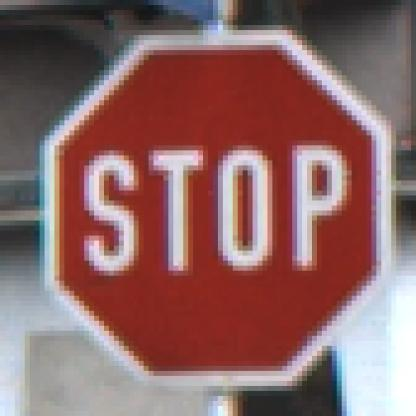Stop: (49, 40, 387, 379)
